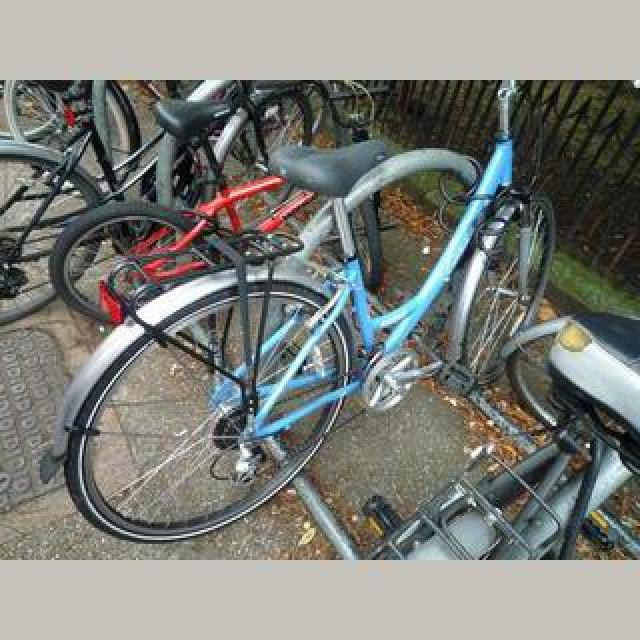Person: (58, 79, 558, 543), (20, 80, 390, 314)
